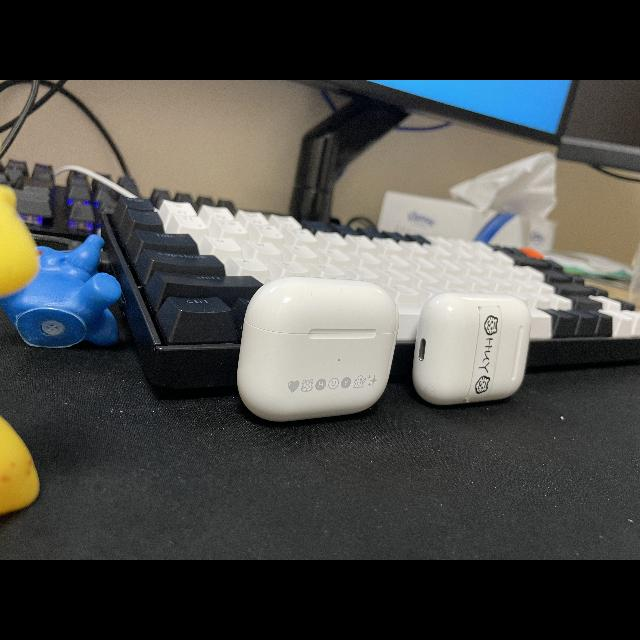airpod2: (413, 285, 535, 411)
airpod3: (227, 274, 399, 422)
